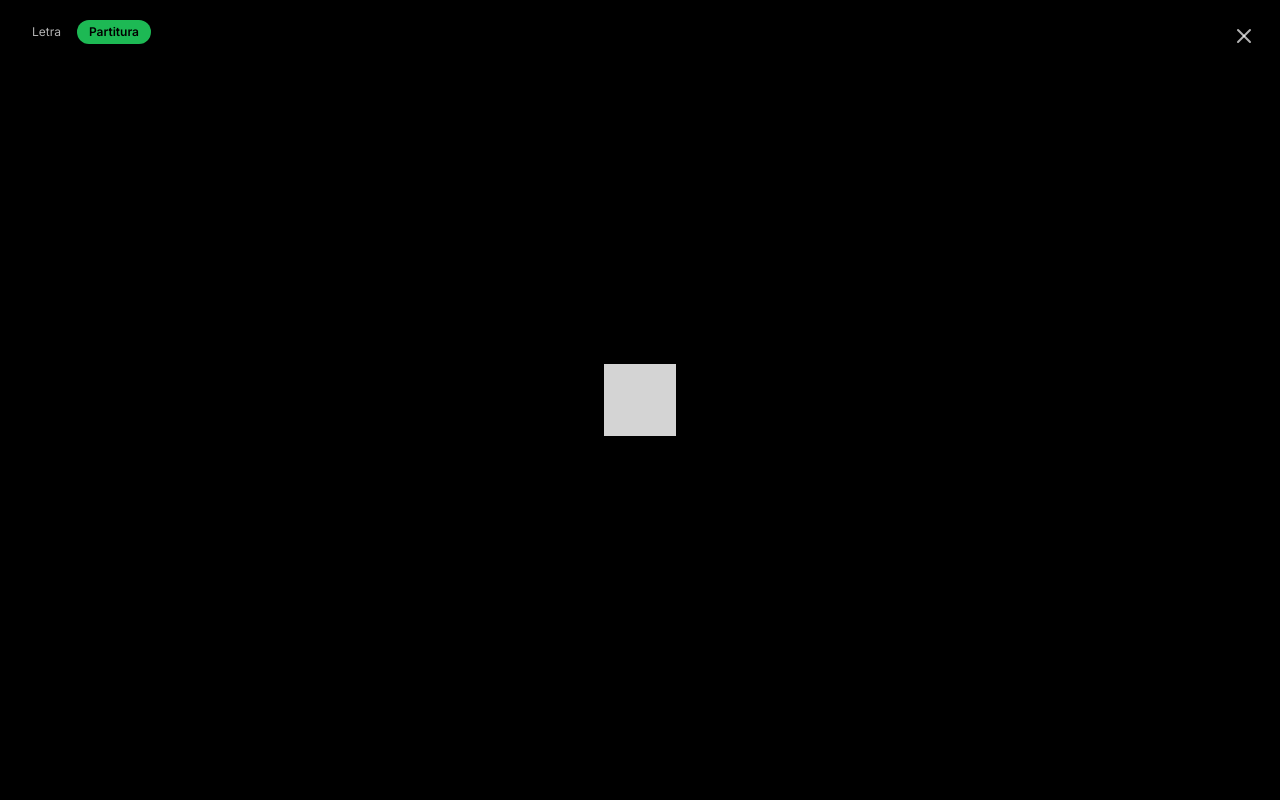
Test: ScoreViewer — extended › switches back to image tab from lyrics tab
Click the button "Letra". click: (46,32)
box: [20, 20, 73, 44]
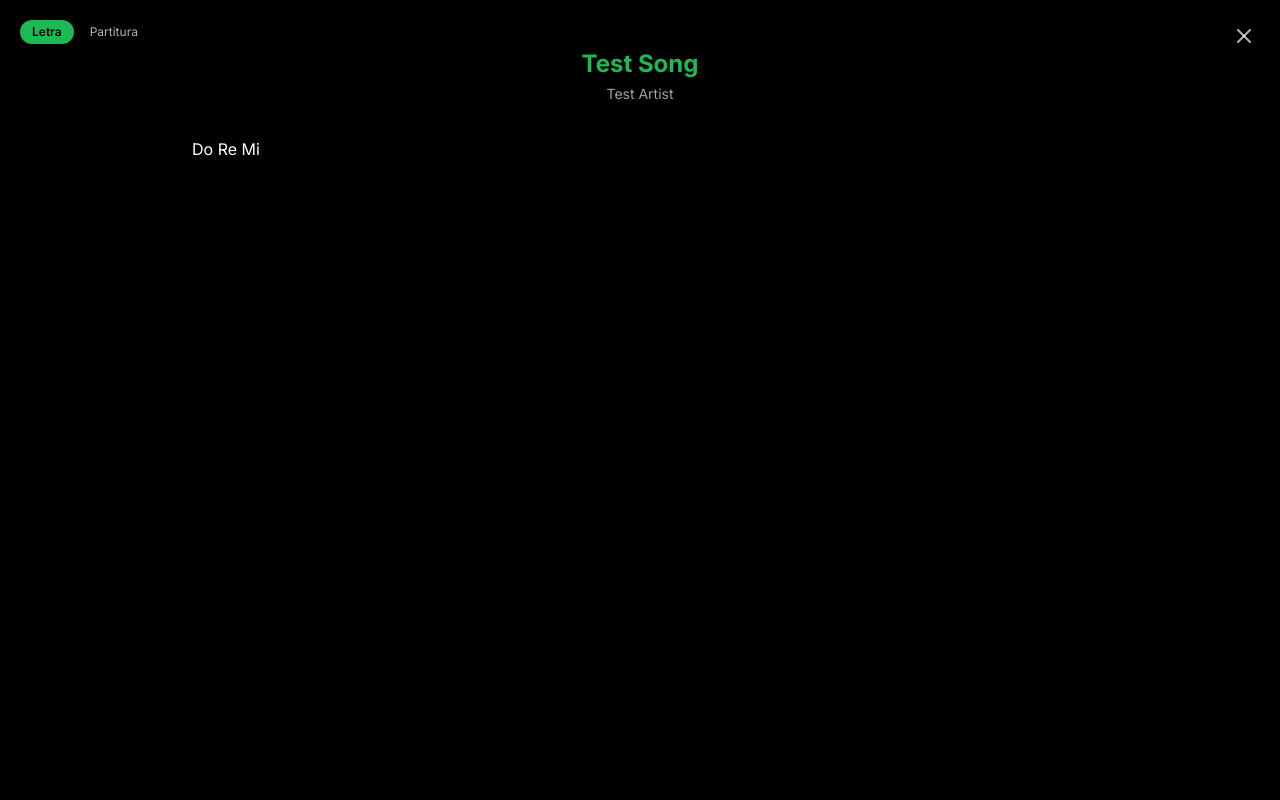
Now the text "Do Re Mi" is shown, box [192, 139, 260, 159]
Click the button "Partitura". click: (114,32)
box: [78, 20, 150, 44]
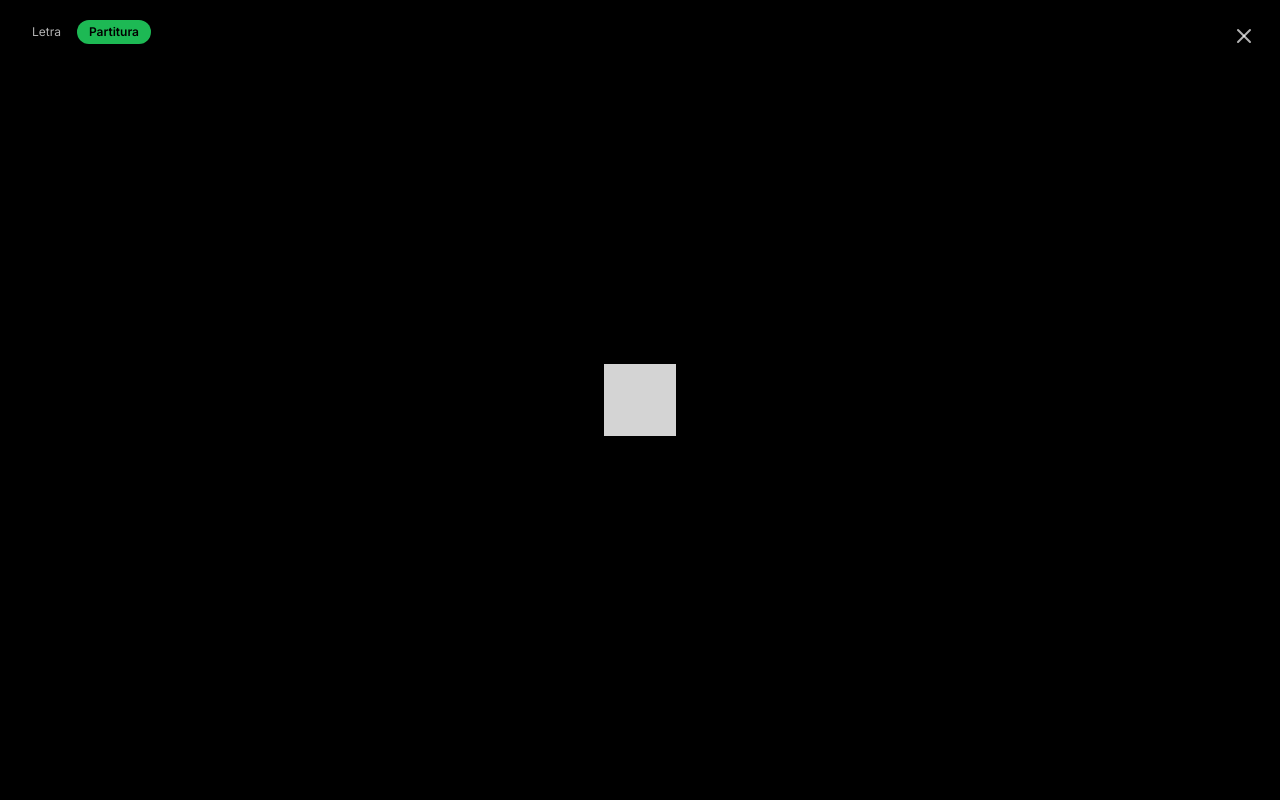
Now the text "Do Re Mi" is gone
